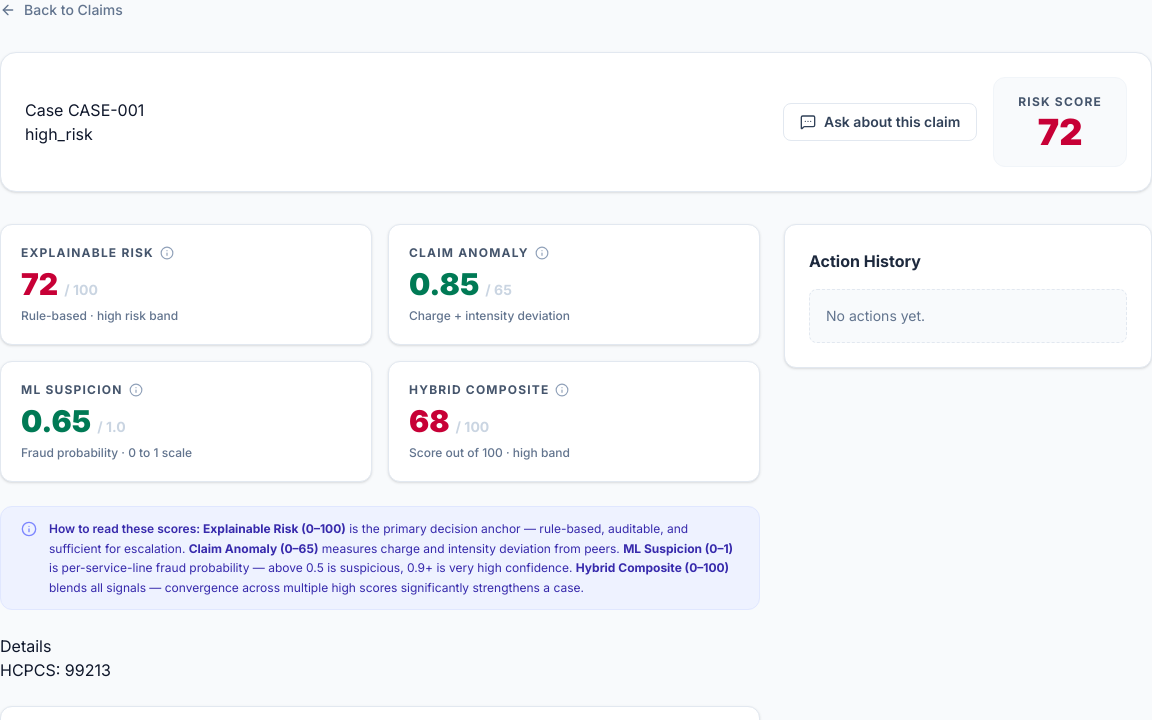
Test: CaseDetailShell › opens assistant drawer when chat button is clicked
Click the button "Ask about this claim" at [880, 122], box [783, 103, 977, 141]
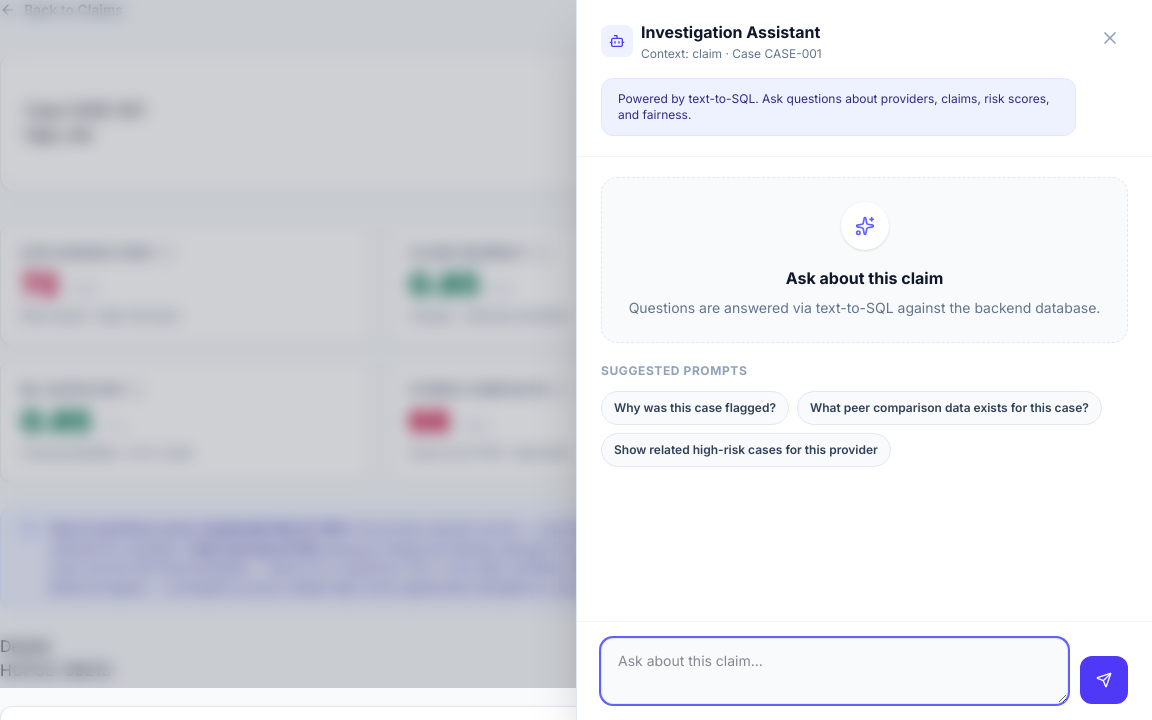
expect the dialog is shown: met, box [576, 0, 1151, 719]
